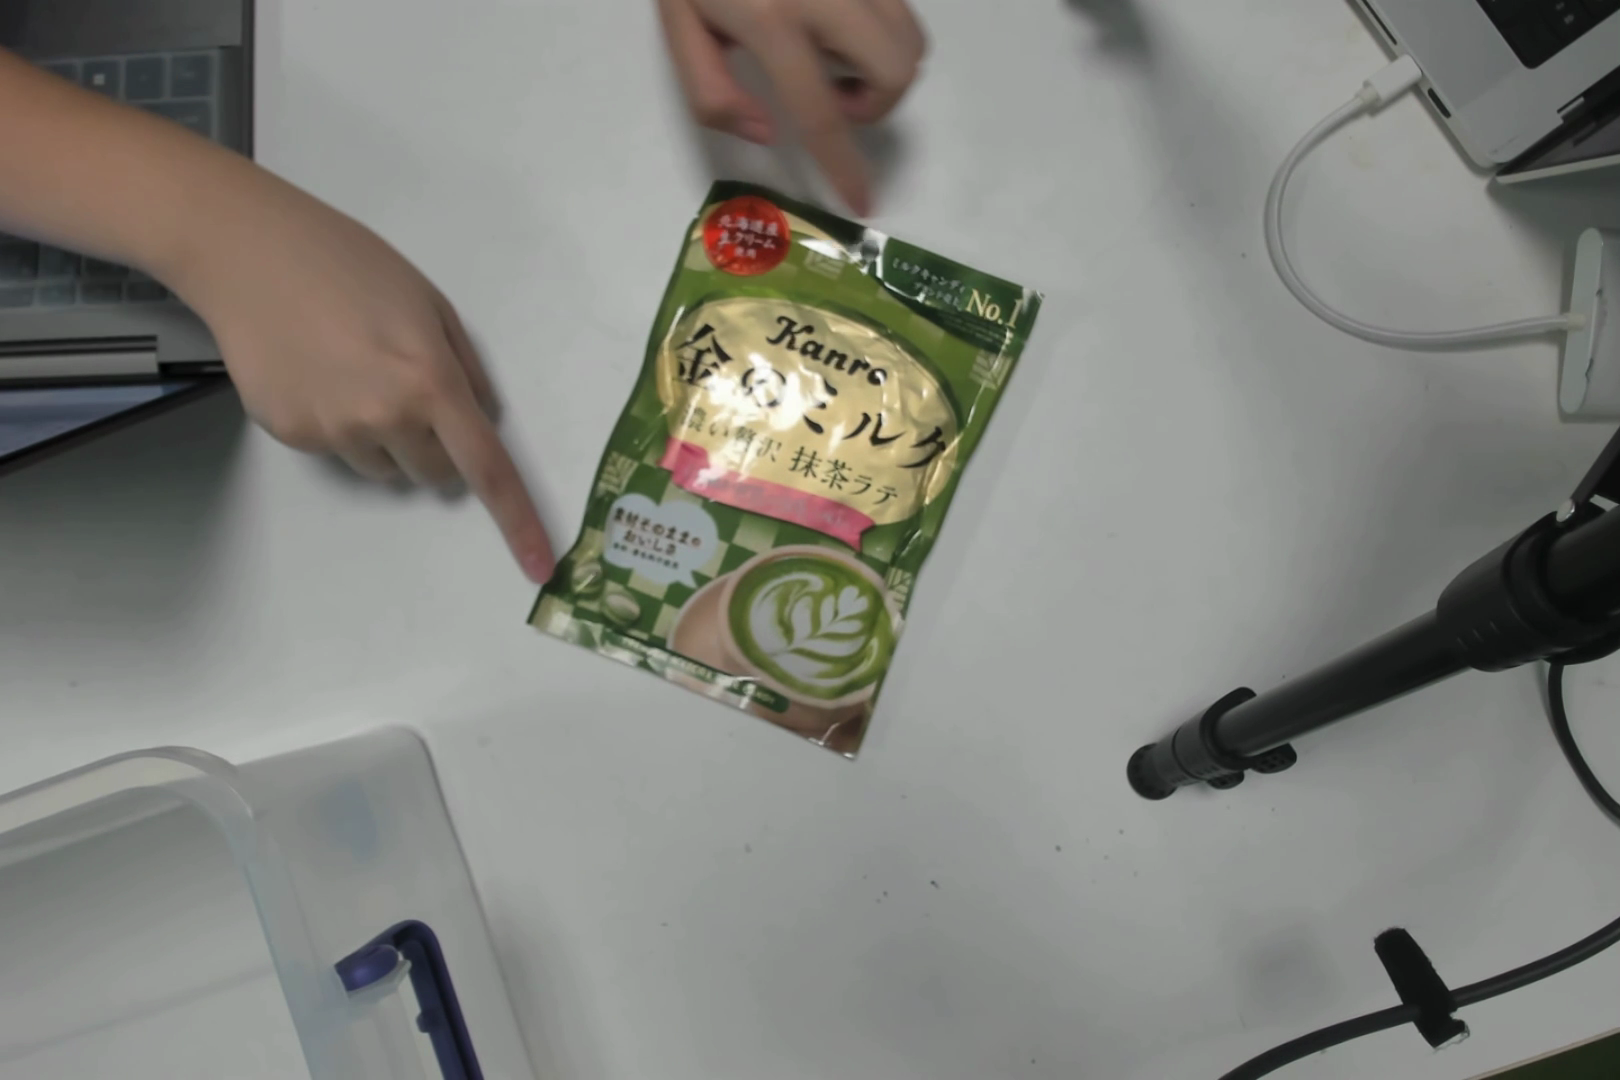SweetsChocolatesOthers_1-99g_NonHalal_NonHealthy: (579, 181, 968, 740)
